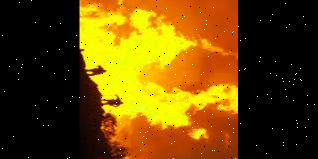fire: (80, 3, 238, 140)
